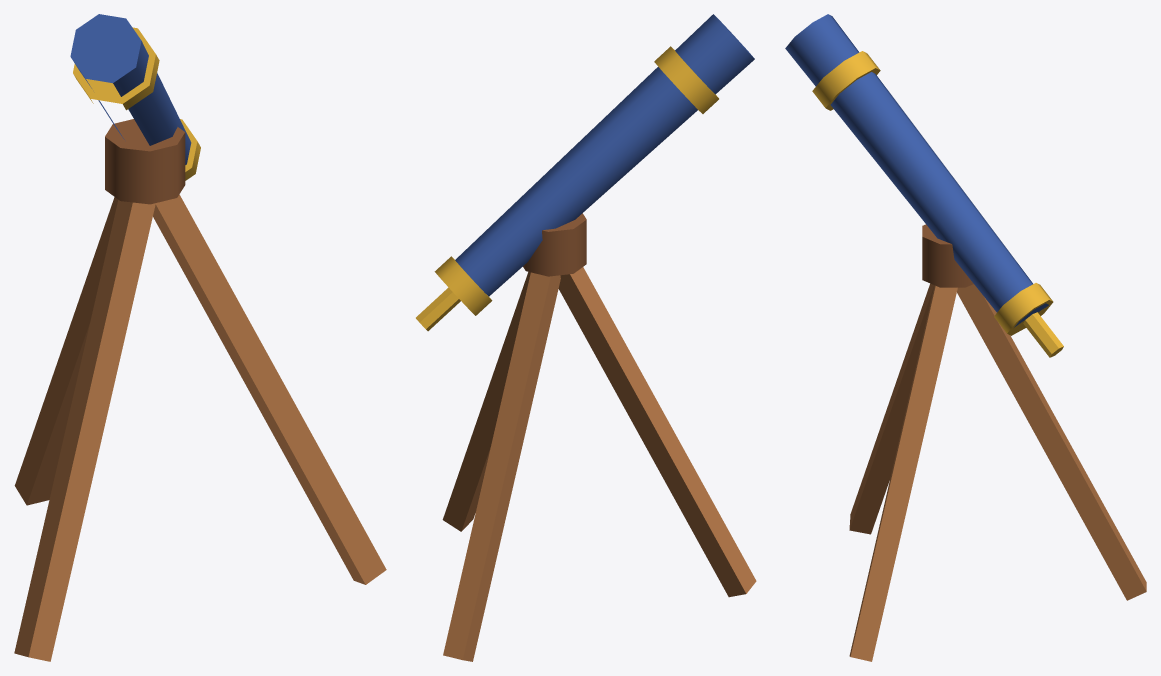
The model's file is telescope.glb.
The picture shows the model from 3 angles, left to right: view 1: azimuth 30°, elevation 25°; view 2: azimuth 150°, elevation 25°; view 3: azimuth 270°, elevation 25°; orthographic projection. The views are drawn at different scales.
Parts seen in each view (by area): view 1: telescope; view 2: telescope; view 3: telescope.
Part boxes in pixels (x1,y1,x2,y2): telescope: (14,14,386,661); telescope: (416,14,756,661); telescope: (785,14,1146,661).
Size of the model in its own units: 0.924 by 1.6 by 0.982.
1 material, 1 textured.
